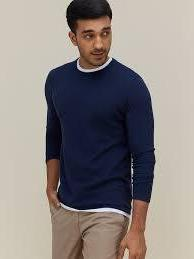sweater: (42, 55, 160, 214)
